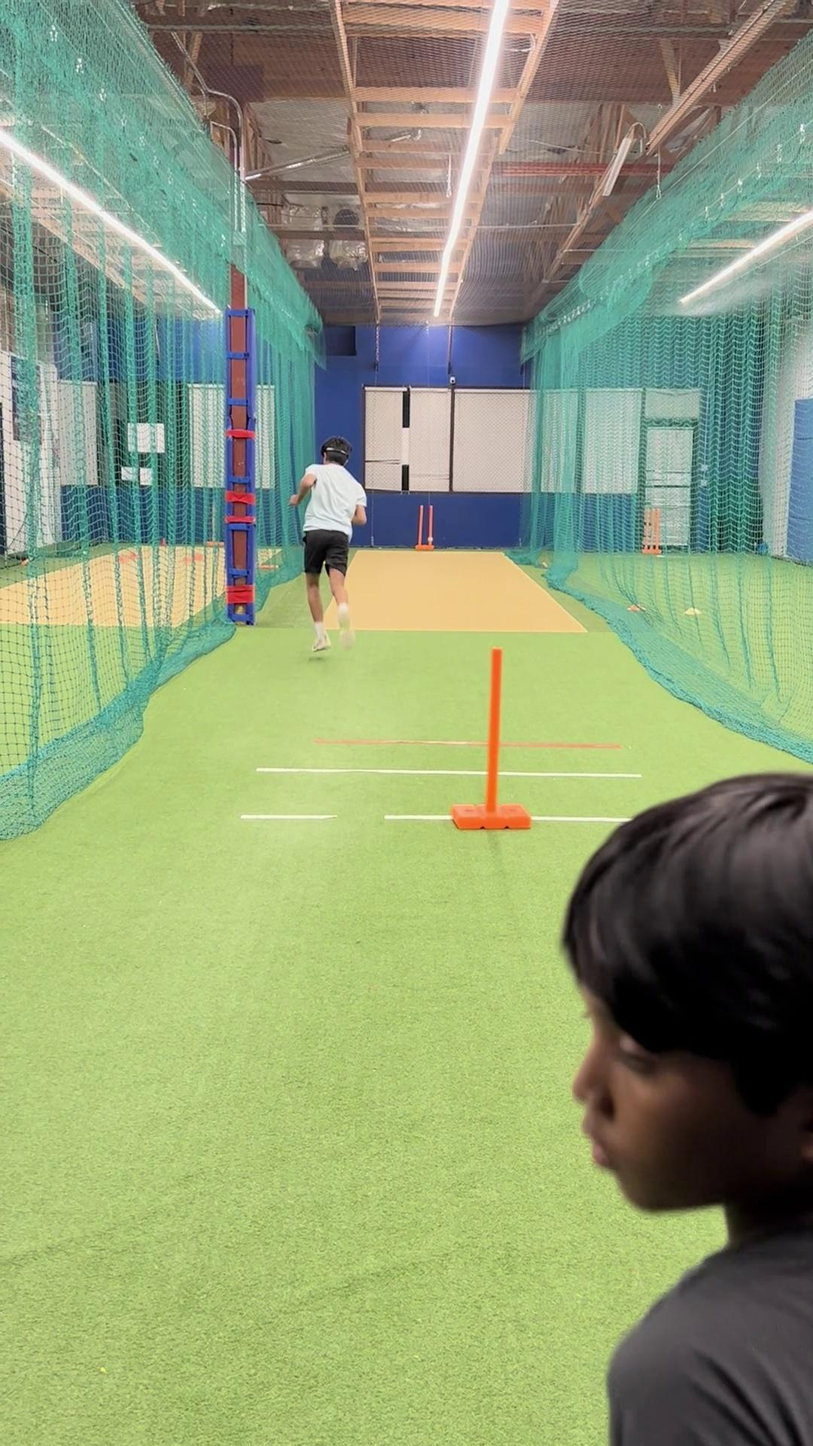ball: (425, 534, 436, 544)
